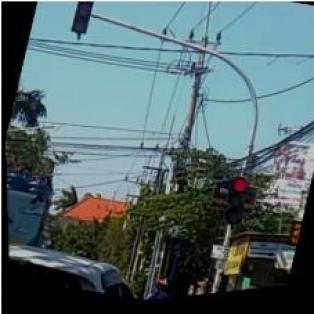Semaforo Rojo: (221, 180, 249, 231), (68, 0, 100, 36)
